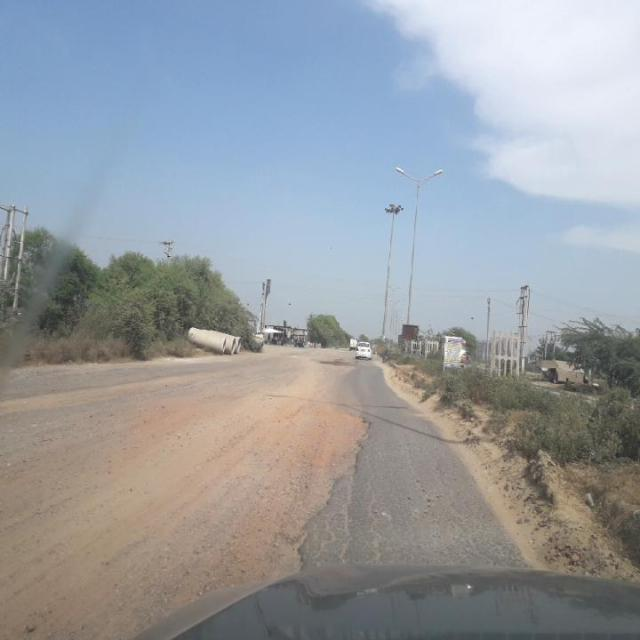Surface Erosion: (10, 328, 425, 640)
